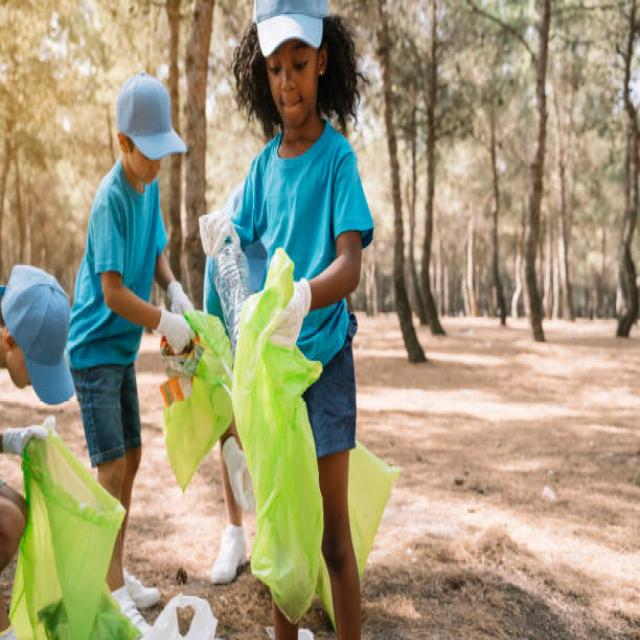plastic: (211, 238, 248, 328)
trash: (242, 290, 314, 632), (15, 453, 130, 620), (165, 315, 234, 460)
